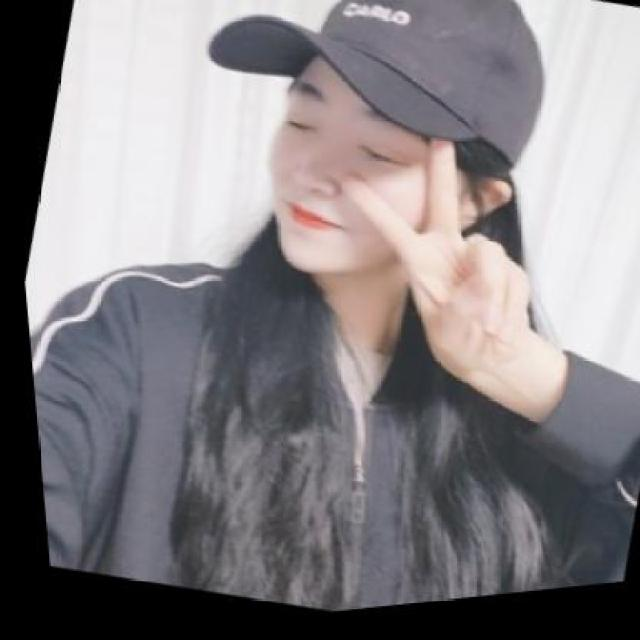hat: (175, 0, 576, 217)
